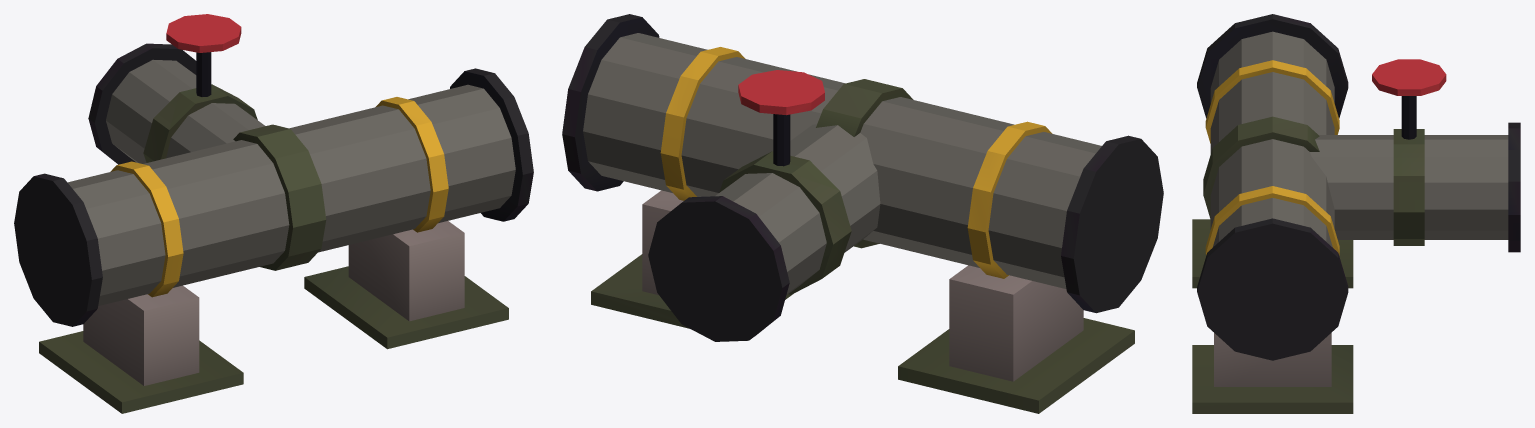
The model's file is kit.dispersal-pipe-tee.lod1.glb.
The picture shows the model from 3 angles, left to right: view 1: azimuth 30°, elevation 25°; view 2: azimuth 150°, elevation 25°; view 3: azimuth 270°, elevation 25°; orthographic projection. The views are drawn at different scales.
Parts seen in each view (by area): view 1: body; view 2: body; view 3: body.
Part boxes in pixels (bbox=[...]): body: bbox=[14, 14, 533, 413]; body: bbox=[562, 14, 1163, 413]; body: bbox=[1192, 14, 1520, 413].
Bounding box in the file's own units: 8 × 4.41 × 5.3.
